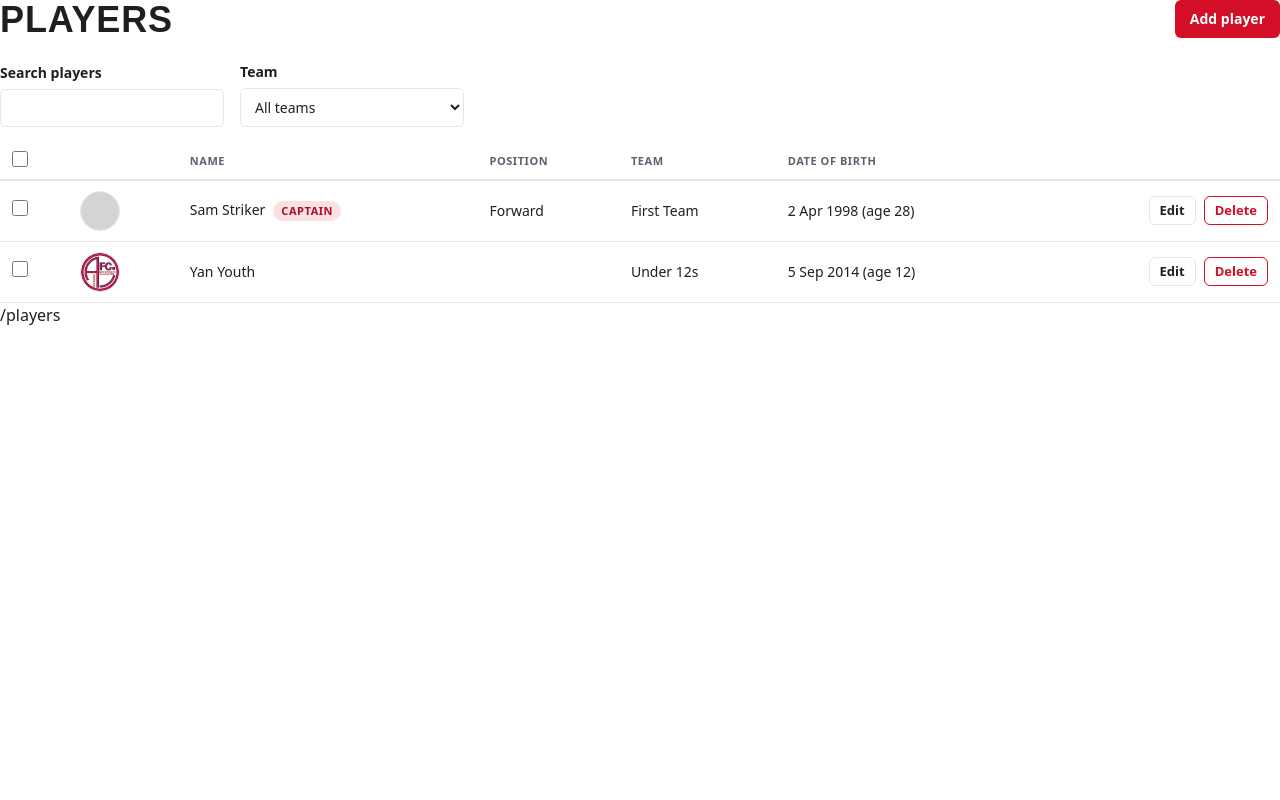
PlayersPage › deletes a player after confirming
The width and height of the screenshot is (1280, 800).
Click the button "Delete" in the row of "Sam Striker" at (1236, 211), box [1204, 196, 1268, 225]
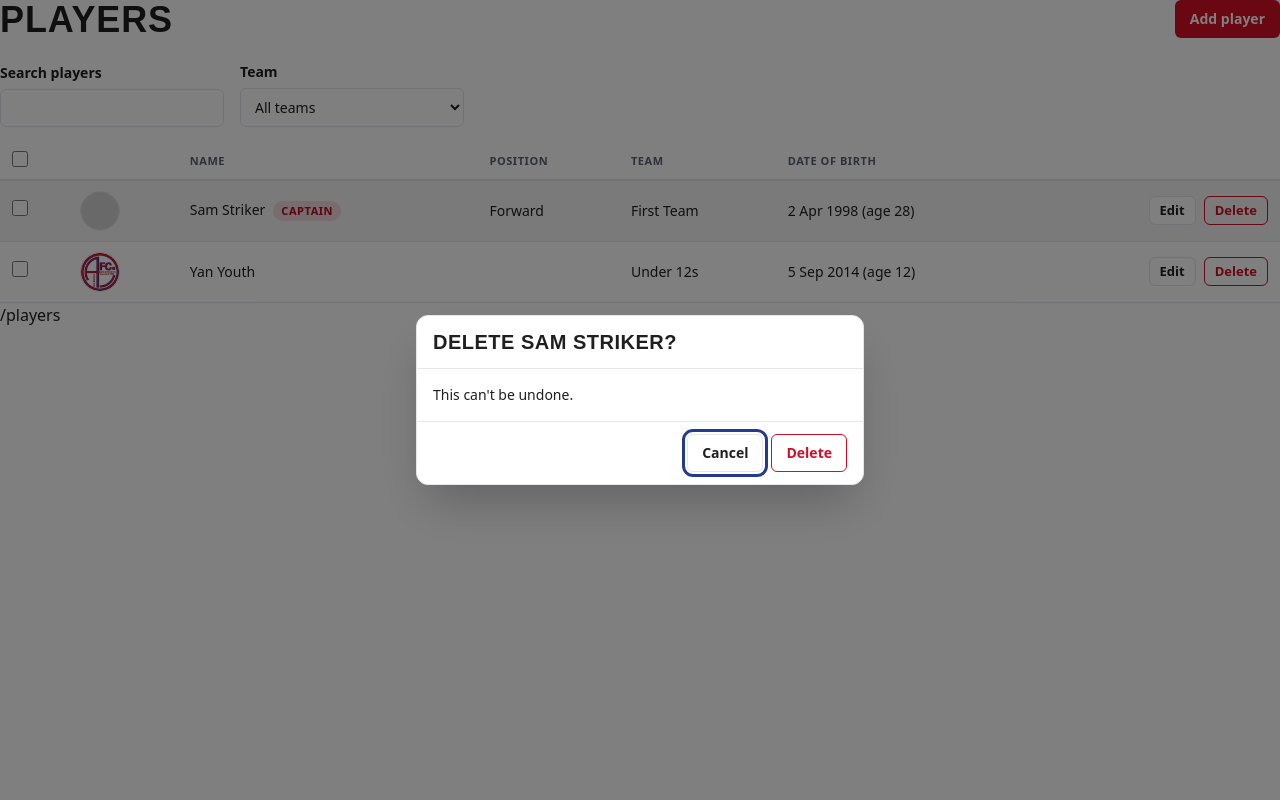
Click the button "Delete" below "This can't be undone." at (809, 453), box [772, 434, 847, 472]
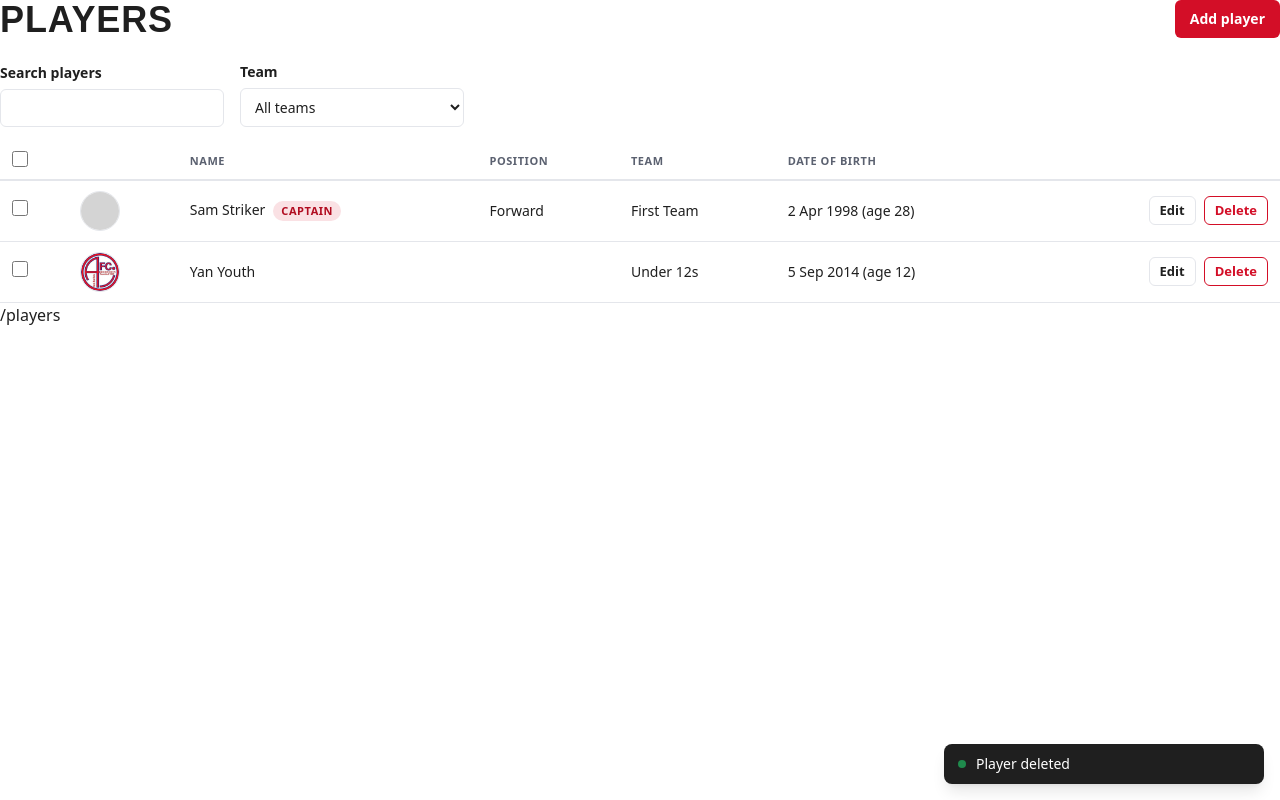
Expected: the button "Player deleted" is shown, [944, 744, 1264, 784]
